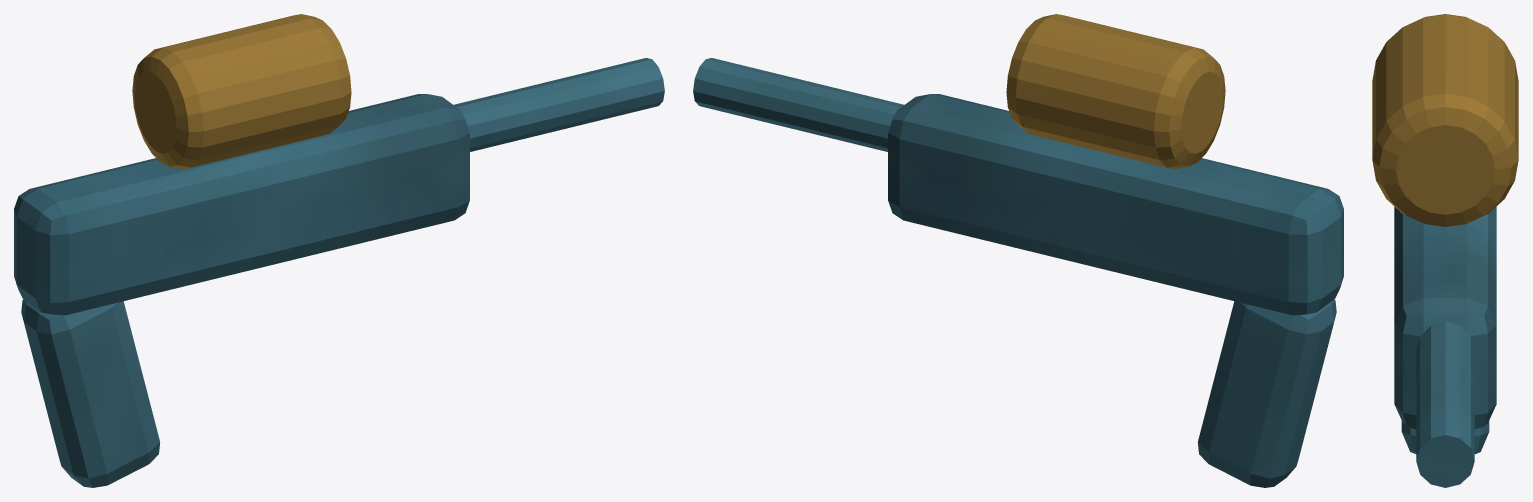
Rendered from TY41_WaterGun.glb.
The picture shows the model from 3 angles, left to right: view 1: azimuth 30°, elevation 25°; view 2: azimuth 150°, elevation 25°; view 3: azimuth 270°, elevation 25°; orthographic projection. The views are drawn at different scales.
Visible parts, largest first — view 1: TY41_WaterGun; view 2: TY41_WaterGun; view 3: TY41_WaterGun.
Boxes of the visible parts, <box> form: TY41_WaterGun: <box>14,14,664,487</box>; TY41_WaterGun: <box>693,14,1343,487</box>; TY41_WaterGun: <box>1372,14,1518,487</box>.
Size of the model in its own units: 0.3 by 0.1873 by 0.0517.
2 materials, 2 textured.
